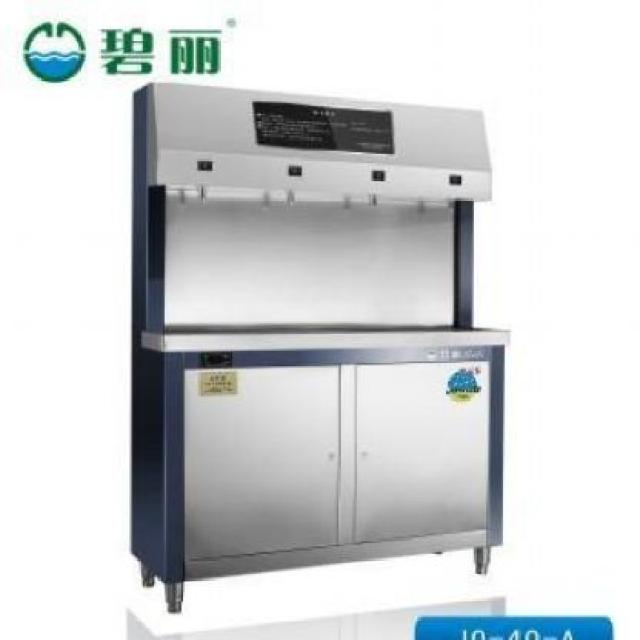cooler: (128, 78, 510, 620)
